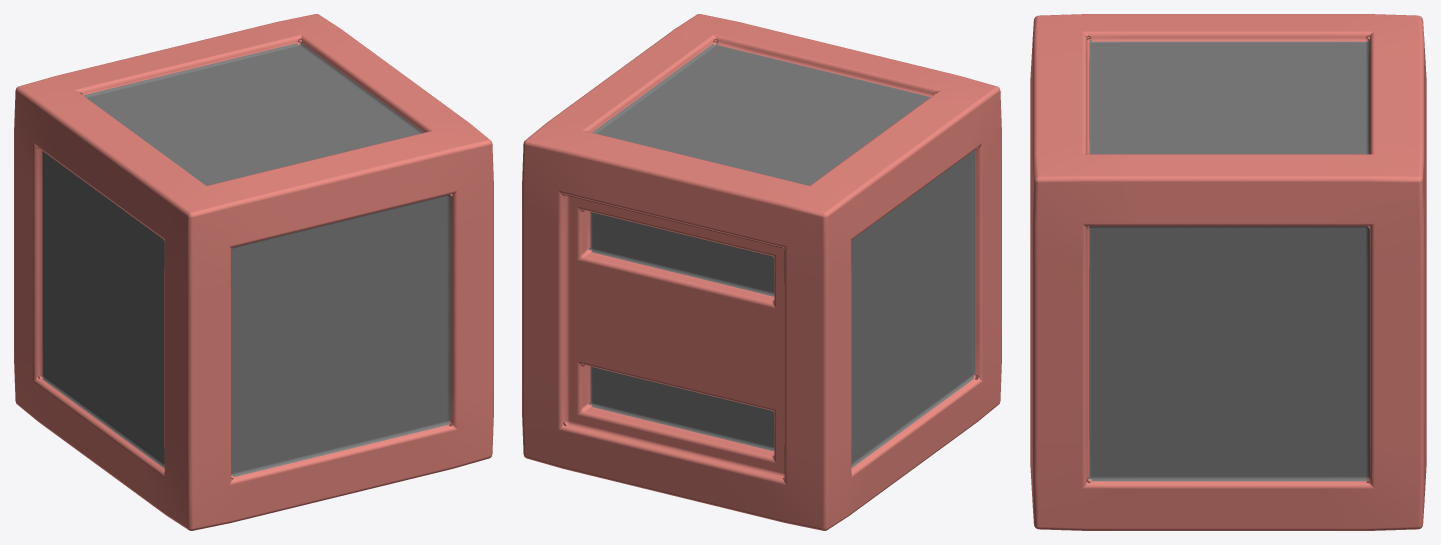
3 views of the same model, side by side, from view 1: azimuth 30°, elevation 25°; view 2: azimuth 150°, elevation 25°; view 3: azimuth 270°, elevation 25° (orthographic). The views are drawn at different scales.
Parts seen in each view (by area): view 1: Cube; view 2: Cube; view 3: Cube.
Boxes of the visible parts, bbox=[...] form: Cube: bbox=[14, 14, 493, 530]; Cube: bbox=[522, 14, 1001, 530]; Cube: bbox=[1030, 14, 1426, 530].
Bounding box in the file's own units: 168 × 168 × 168.
